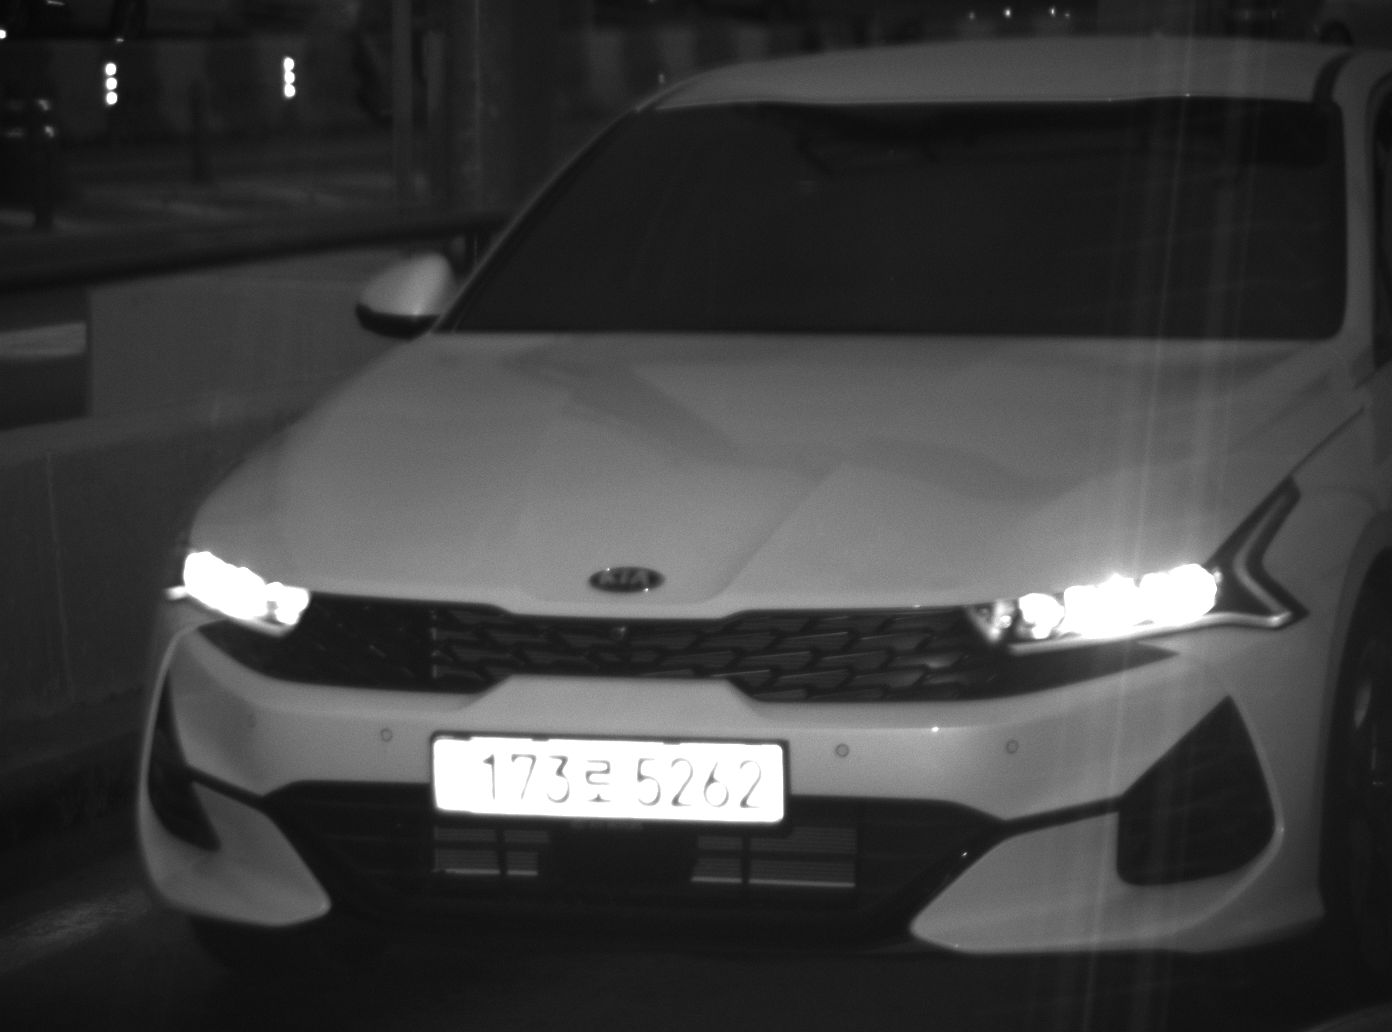car: (128, 26, 1392, 984)
plate: (429, 732, 789, 827)
